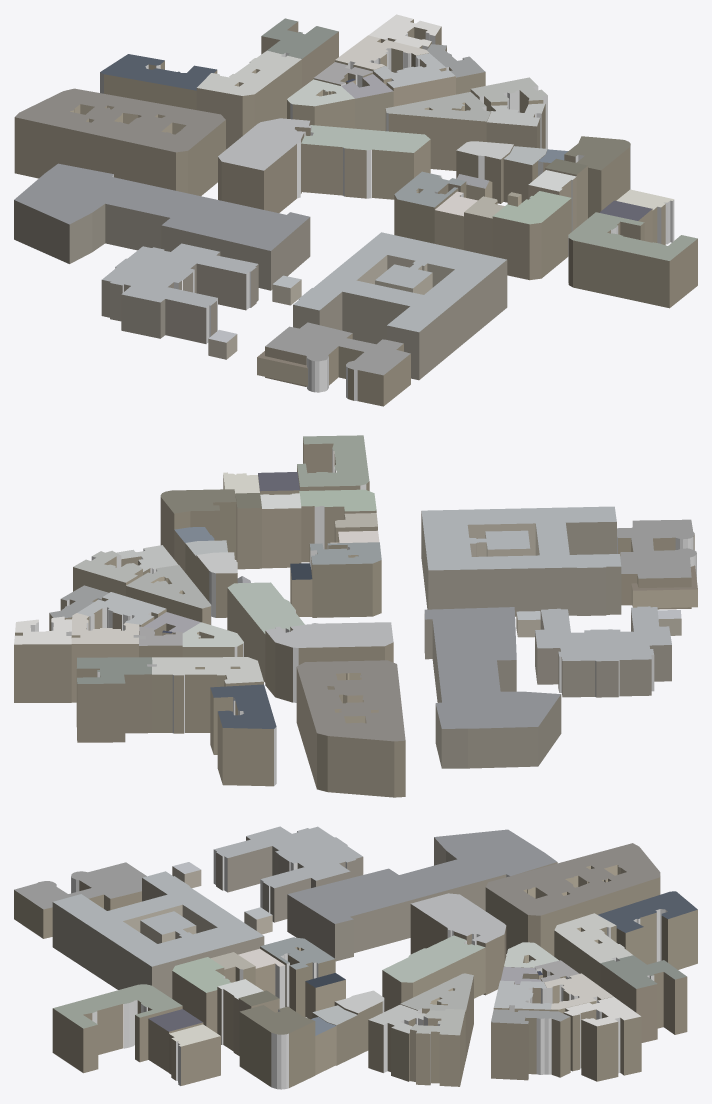
3 views of the same model, one above another, from view 1: azimuth 30°, elevation 25°; view 2: azimuth 150°, elevation 25°; view 3: azimuth 270°, elevation 25° (orthographic). The views are drawn at different scales.
Visible parts, largest first — view 1: tuile; view 2: tuile; view 3: tuile.
Boxes of the visible parts, x1,y1,x2,y2 form: tuile: (14, 14, 697, 406); tuile: (14, 435, 697, 797); tuile: (14, 826, 697, 1089).
Size of the model in its own units: 236 by 31.54 by 291.
